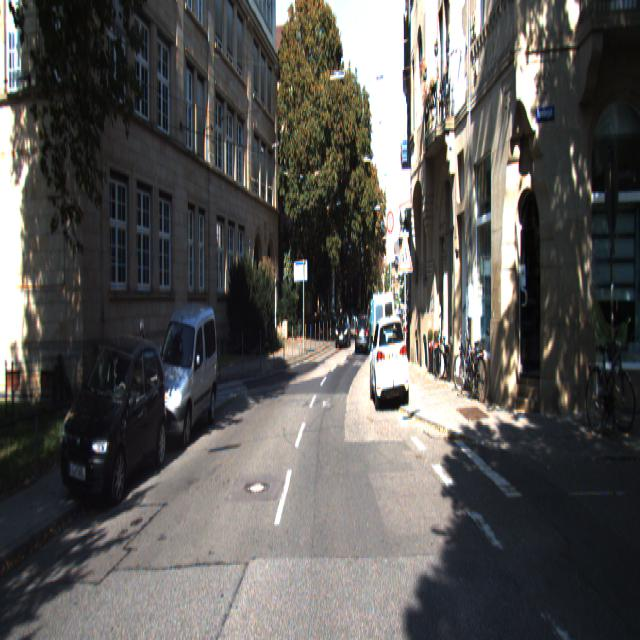Car: (56, 333, 172, 520), (144, 300, 219, 458), (369, 312, 410, 416), (372, 290, 397, 396), (355, 312, 371, 357), (335, 312, 352, 350)
